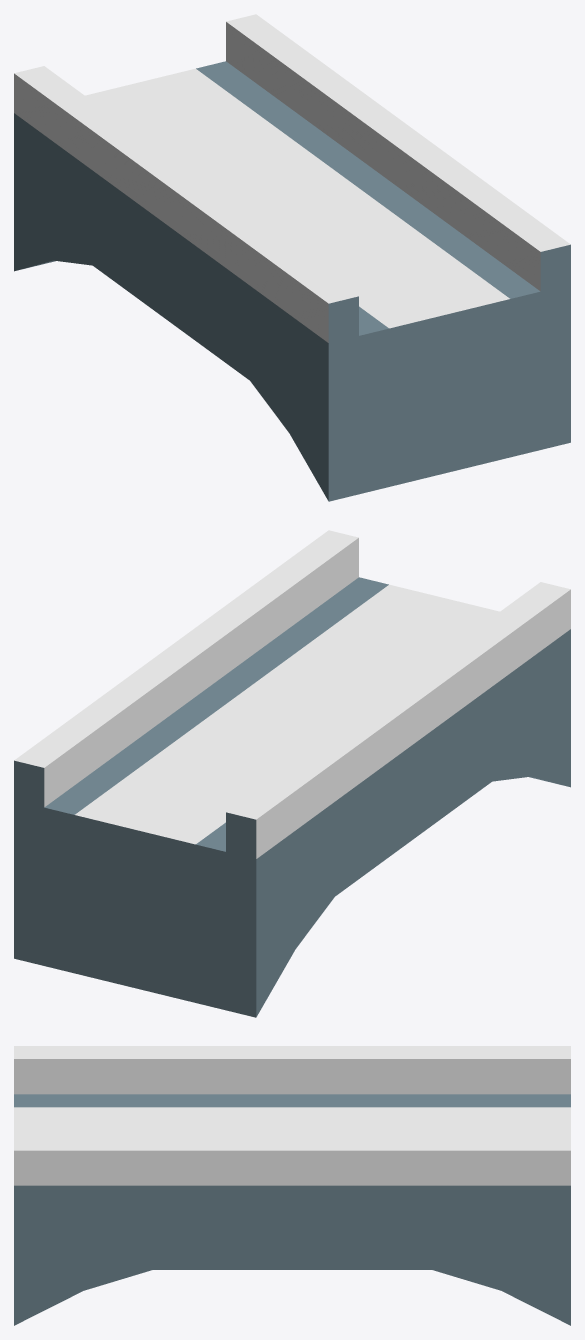
The picture shows the model from 3 angles, top to bottom: view 1: azimuth 30°, elevation 25°; view 2: azimuth 150°, elevation 25°; view 3: azimuth 270°, elevation 25°; orthographic projection. The views are drawn at different scales.
Parts seen in each view (by area): view 1: mesh_1872775531; view 2: mesh_1872775531; view 3: mesh_1872775531.
Boxes of the visible parts, x1,y1,x2,y2 form: mesh_1872775531: (14,14,570,501); mesh_1872775531: (14,530,570,1017); mesh_1872775531: (14,1046,570,1325).
Size of the model in its own units: 32 by 25 by 72.
